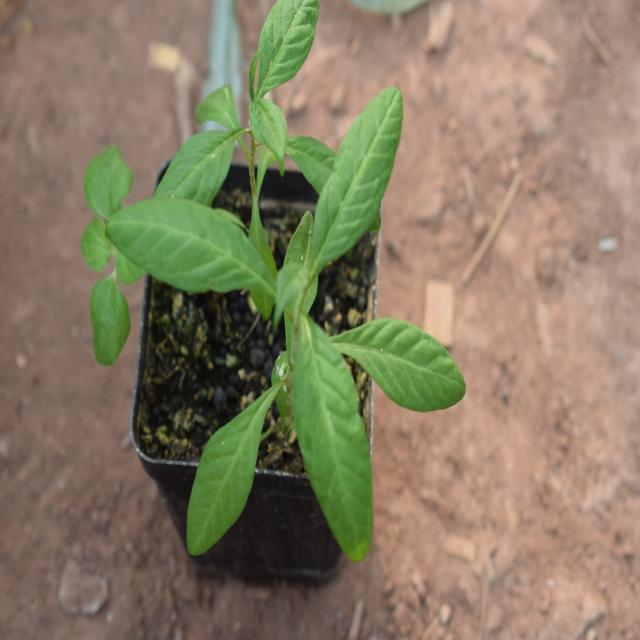white_smart_weed: (150, 112, 455, 555)
